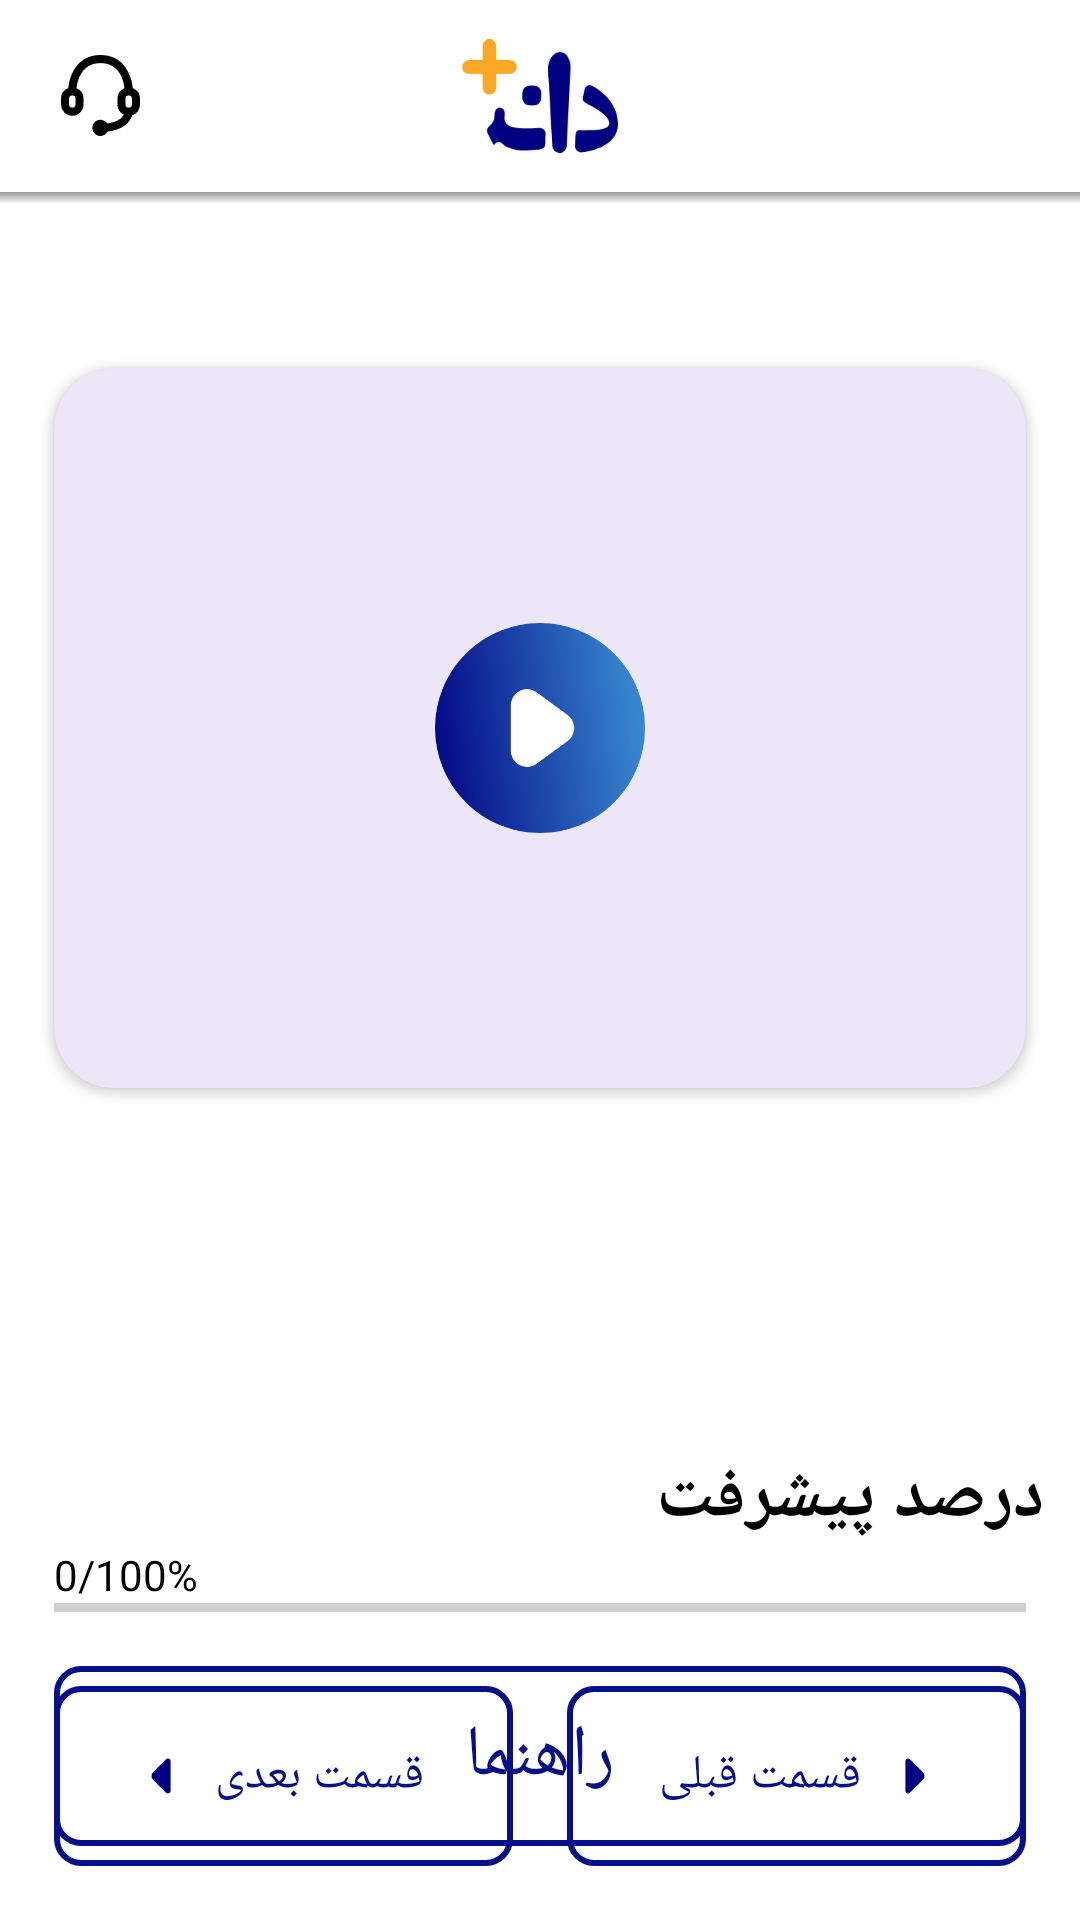

Icons on this 1080*1920 Android screen, each with the point to tap as point (x, y):
play: point (540, 728)
support: point (100, 95)
